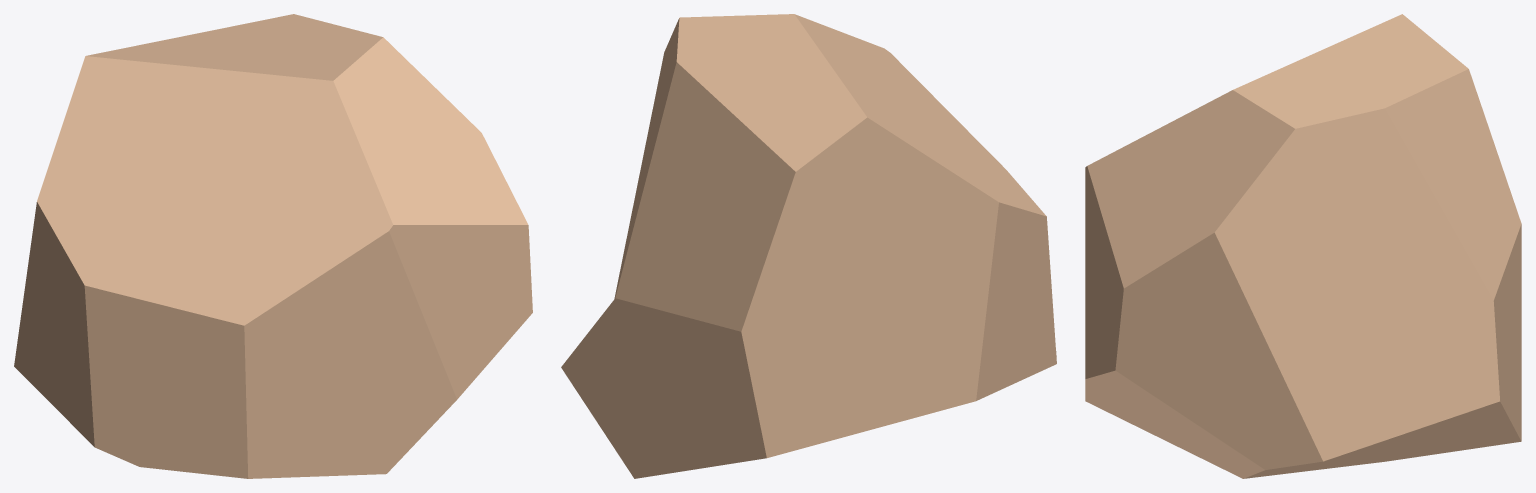
Rendered from Rock6.fbx.
3 views of the same model, side by side, from view 1: azimuth 30°, elevation 25°; view 2: azimuth 150°, elevation 25°; view 3: azimuth 270°, elevation 25° (orthographic). The views are drawn at different scales.
Parts seen in each view (by area): view 1: Cube.004; view 2: Cube.004; view 3: Cube.004.
Boxes of the visible parts, x1,y1,x2,y2 form: Cube.004: (14, 14, 532, 478); Cube.004: (561, 14, 1056, 478); Cube.004: (1085, 14, 1521, 478).
Bounding box in the file's own units: 113 × 105 × 113.
